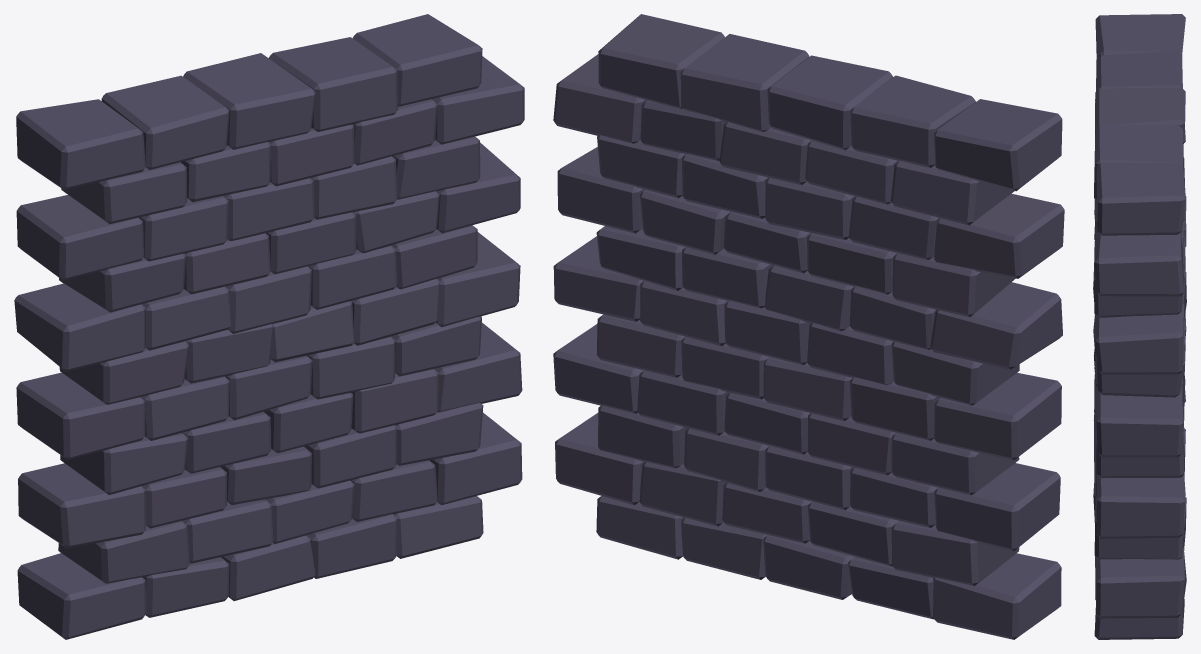
Rendered from BrickWall.glb.
3 renders of one model, left to right at view 1: azimuth 30°, elevation 25°; view 2: azimuth 150°, elevation 25°; view 3: azimuth 270°, elevation 25°, orthographic. The views are drawn at different scales.
Parts seen in each view (by area): view 1: Cube; view 2: Cube; view 3: Cube.
Part boxes in pixels (<box>): Cube: <box>14,14,524,639</box>; Cube: <box>553,14,1064,639</box>; Cube: <box>1093,14,1186,639</box>.
Size of the model in its own units: 2.22 by 2.27 by 0.4307.
